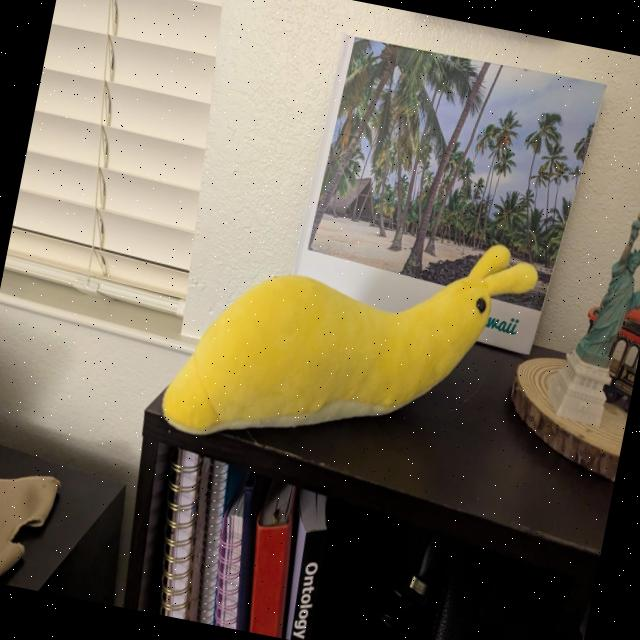banana-slug-toy: (140, 174, 552, 504)
